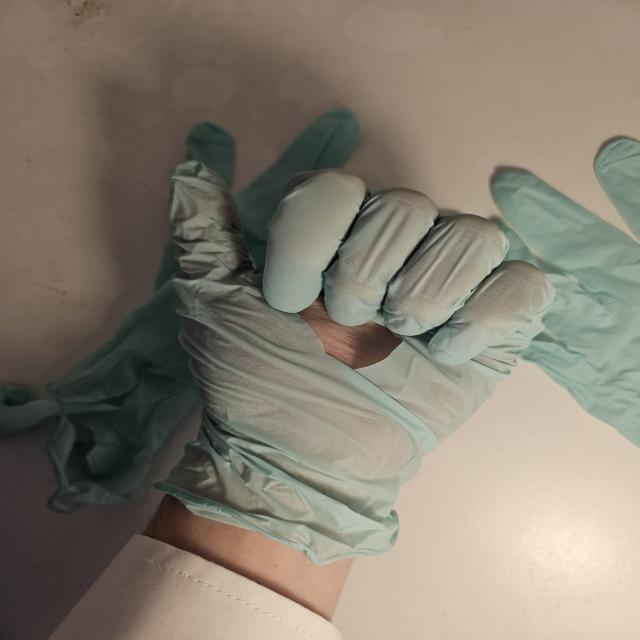gloves_damaged: (149, 153, 561, 566)
